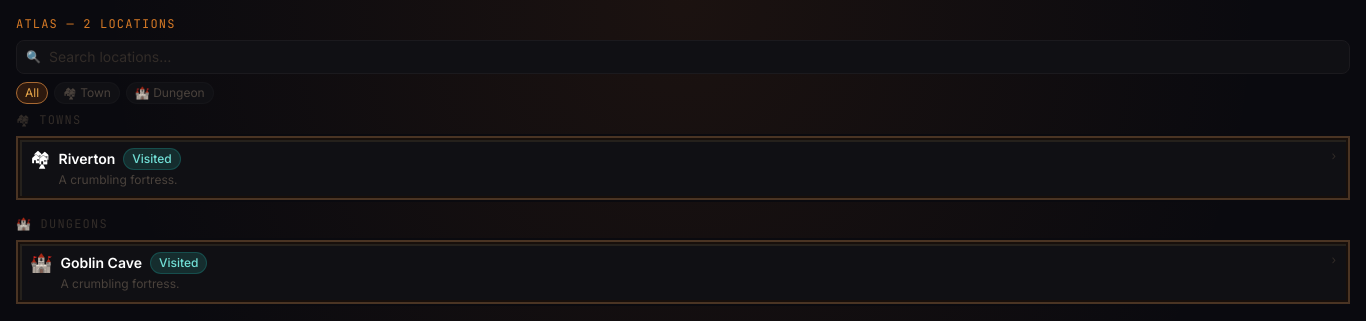
Test: AtlasPanel — type filter › clicking a type pill filters to that type
Click the button "🏰 Dungeon". click: point(170, 93)
box: x1=126 y1=82 x2=214 y2=104
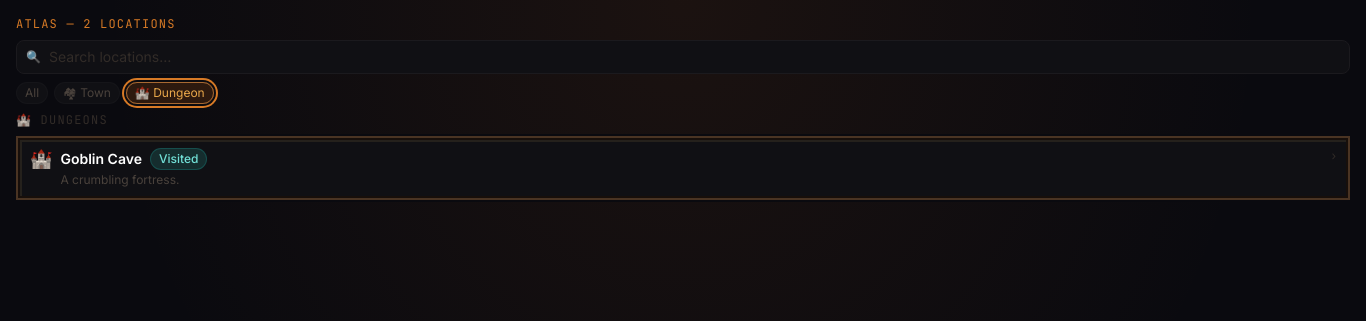
Expected: the text "Goblin Cave" is shown, x1=60 y1=149 x2=142 y2=169
Expected: the button "Riverton" is gone
